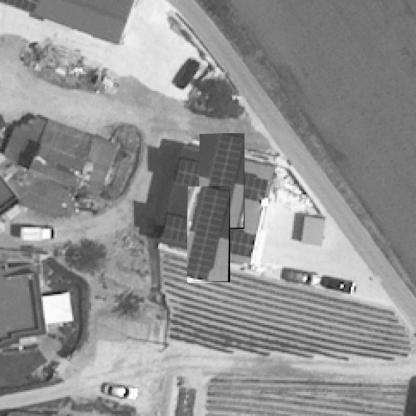solar-pv-panel: (199, 133, 244, 228), (187, 187, 230, 282)
